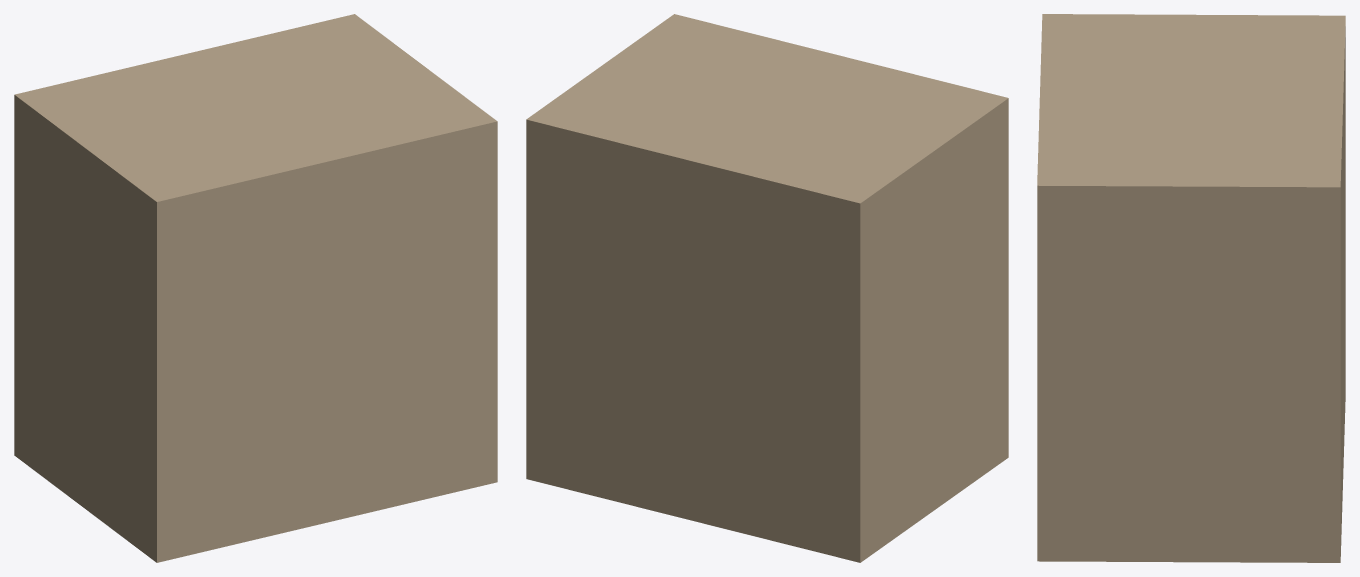
Rendered from bld_98768076.dae.
3 views of the same model, side by side, from view 1: azimuth 30°, elevation 25°; view 2: azimuth 150°, elevation 25°; view 3: azimuth 270°, elevation 25° (orthographic). The views are drawn at different scales.
Visible parts, largest first — view 1: bld_98768076; view 2: bld_98768076; view 3: bld_98768076.
Boxes of the visible parts, x1,y1,x2,y2 form: bld_98768076: [14, 14, 497, 562]; bld_98768076: [526, 14, 1008, 562]; bld_98768076: [1037, 14, 1345, 562].
Bounding box in the file's own units: 7.92 × 5.96 × 8.
